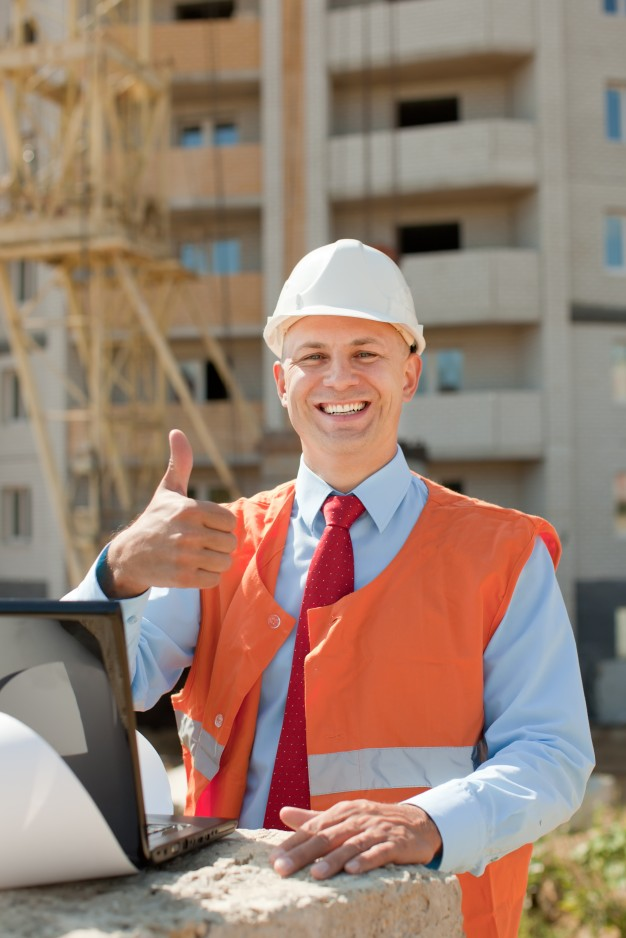thumbsup: (157, 428, 237, 589)
